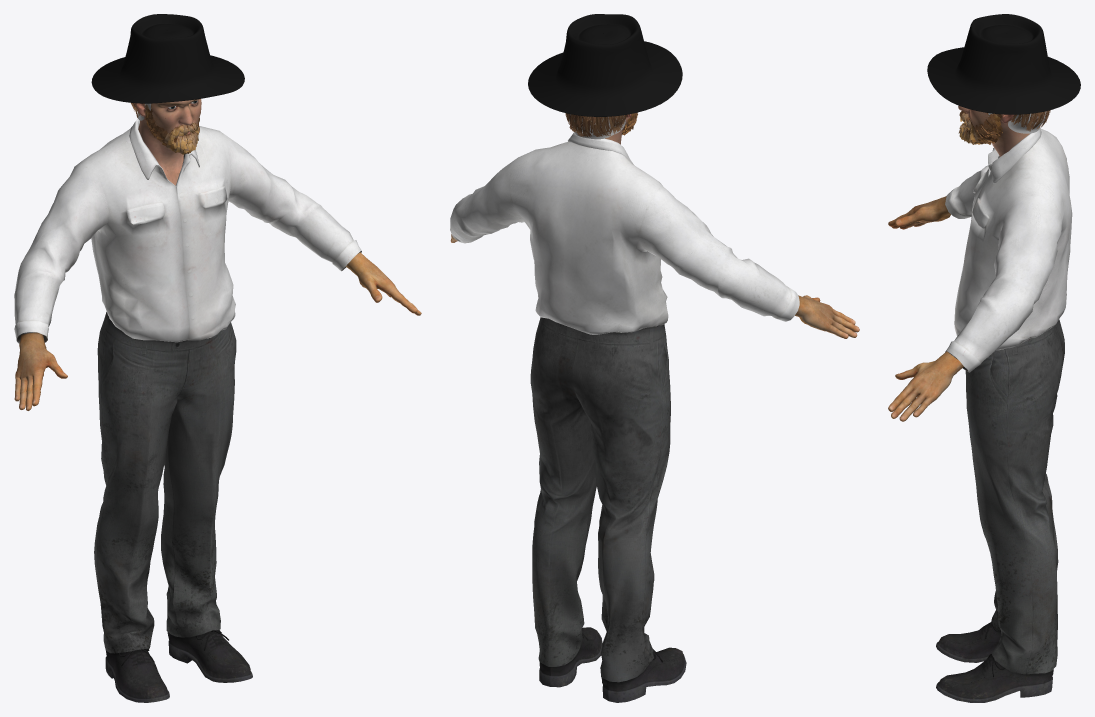
Rendered from 惠特曼.FBX.
3 views of the same model, side by side, from view 1: azimuth 30°, elevation 25°; view 2: azimuth 150°, elevation 25°; view 3: azimuth 270°, elevation 25° (orthographic).
Visible parts, largest first — view 1: HTM_08, HTM_06, HTM_09, HTM_07, HTM_03, HTM_00; view 2: HTM_08, HTM_06, HTM_09, HTM_07, HTM_02; view 3: HTM_08, HTM_06, HTM_09, HTM_07, HTM_00, HTM_03, HTM_02, HTM_01.
Part boxes in pixels (left/top/right/bottom): HTM_08: left=94, top=312, right=252, bottom=702; HTM_06: left=14, top=119, right=361, bottom=343; HTM_09: left=91, top=14, right=244, bottom=103; HTM_07: left=14, top=252, right=421, bottom=410; HTM_03: left=134, top=99, right=201, bottom=185; HTM_00: left=145, top=104, right=199, bottom=154; HTM_08: left=530, top=317, right=686, bottom=702; HTM_06: left=450, top=132, right=799, bottom=334; HTM_09: left=528, top=14, right=682, bottom=116; HTM_07: left=450, top=234, right=859, bottom=338; HTM_02: left=565, top=113, right=626, bottom=137; HTM_08: left=936, top=319, right=1064, bottom=702; HTM_06: left=945, top=128, right=1072, bottom=372; HTM_09: left=927, top=14, right=1080, bottom=114; HTM_07: left=888, top=196, right=963, bottom=421; HTM_00: left=958, top=110, right=1002, bottom=144; HTM_03: left=958, top=106, right=1029, bottom=156; HTM_02: left=1011, top=110, right=1050, bottom=131; HTM_01: left=988, top=111, right=1046, bottom=133.
Bounding box in the file's own units: 46.29 × 71.85 × 19.41.
